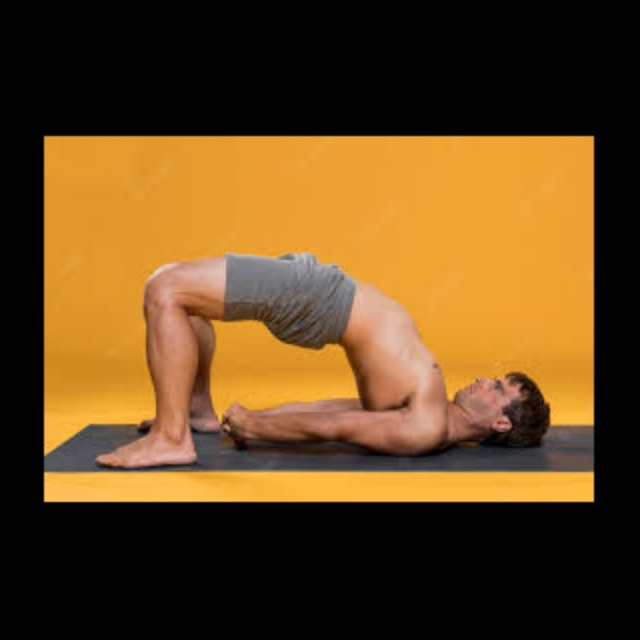Bridge_Pose: (78, 246, 559, 474)
